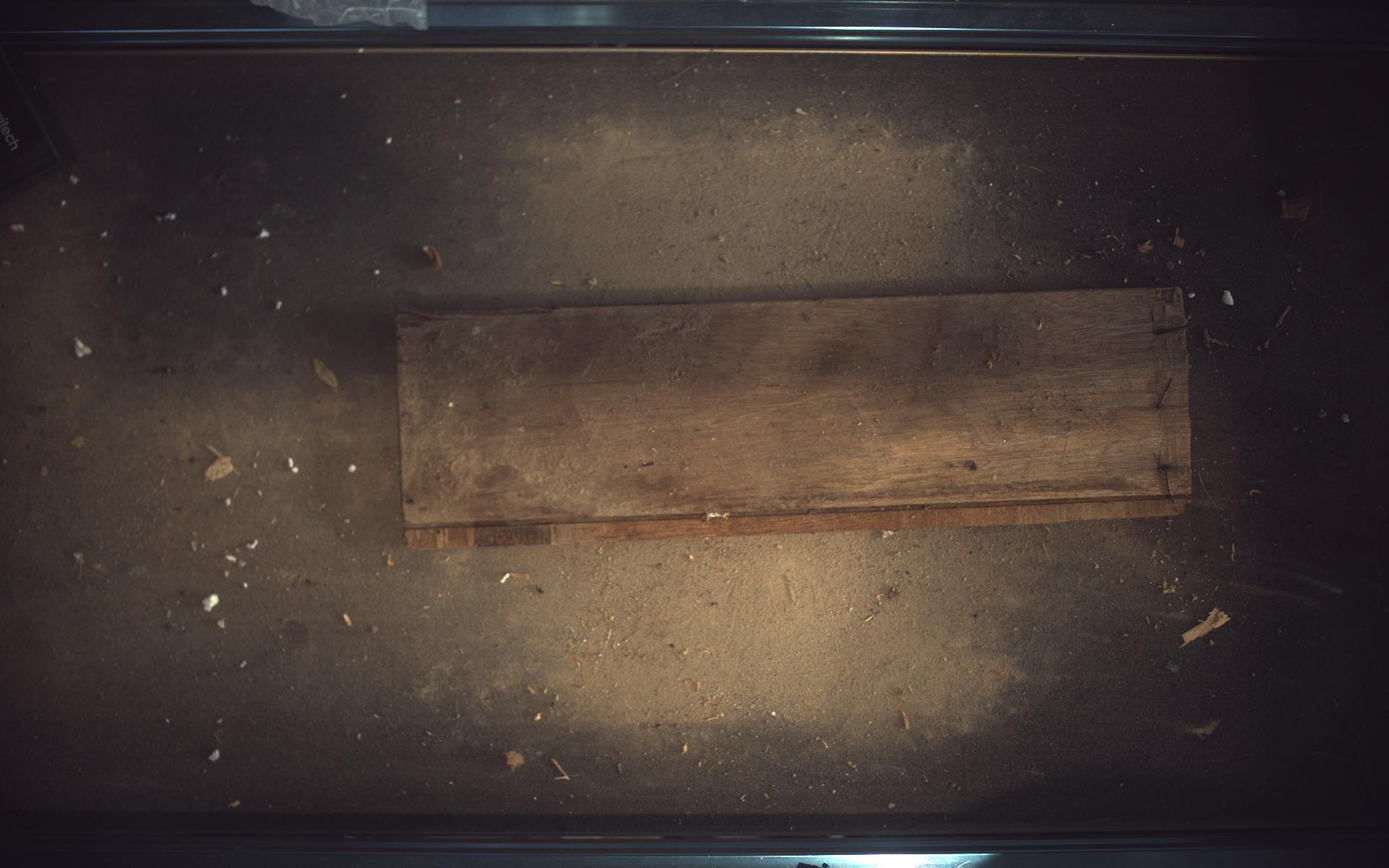wood: (396, 286, 1194, 550)
